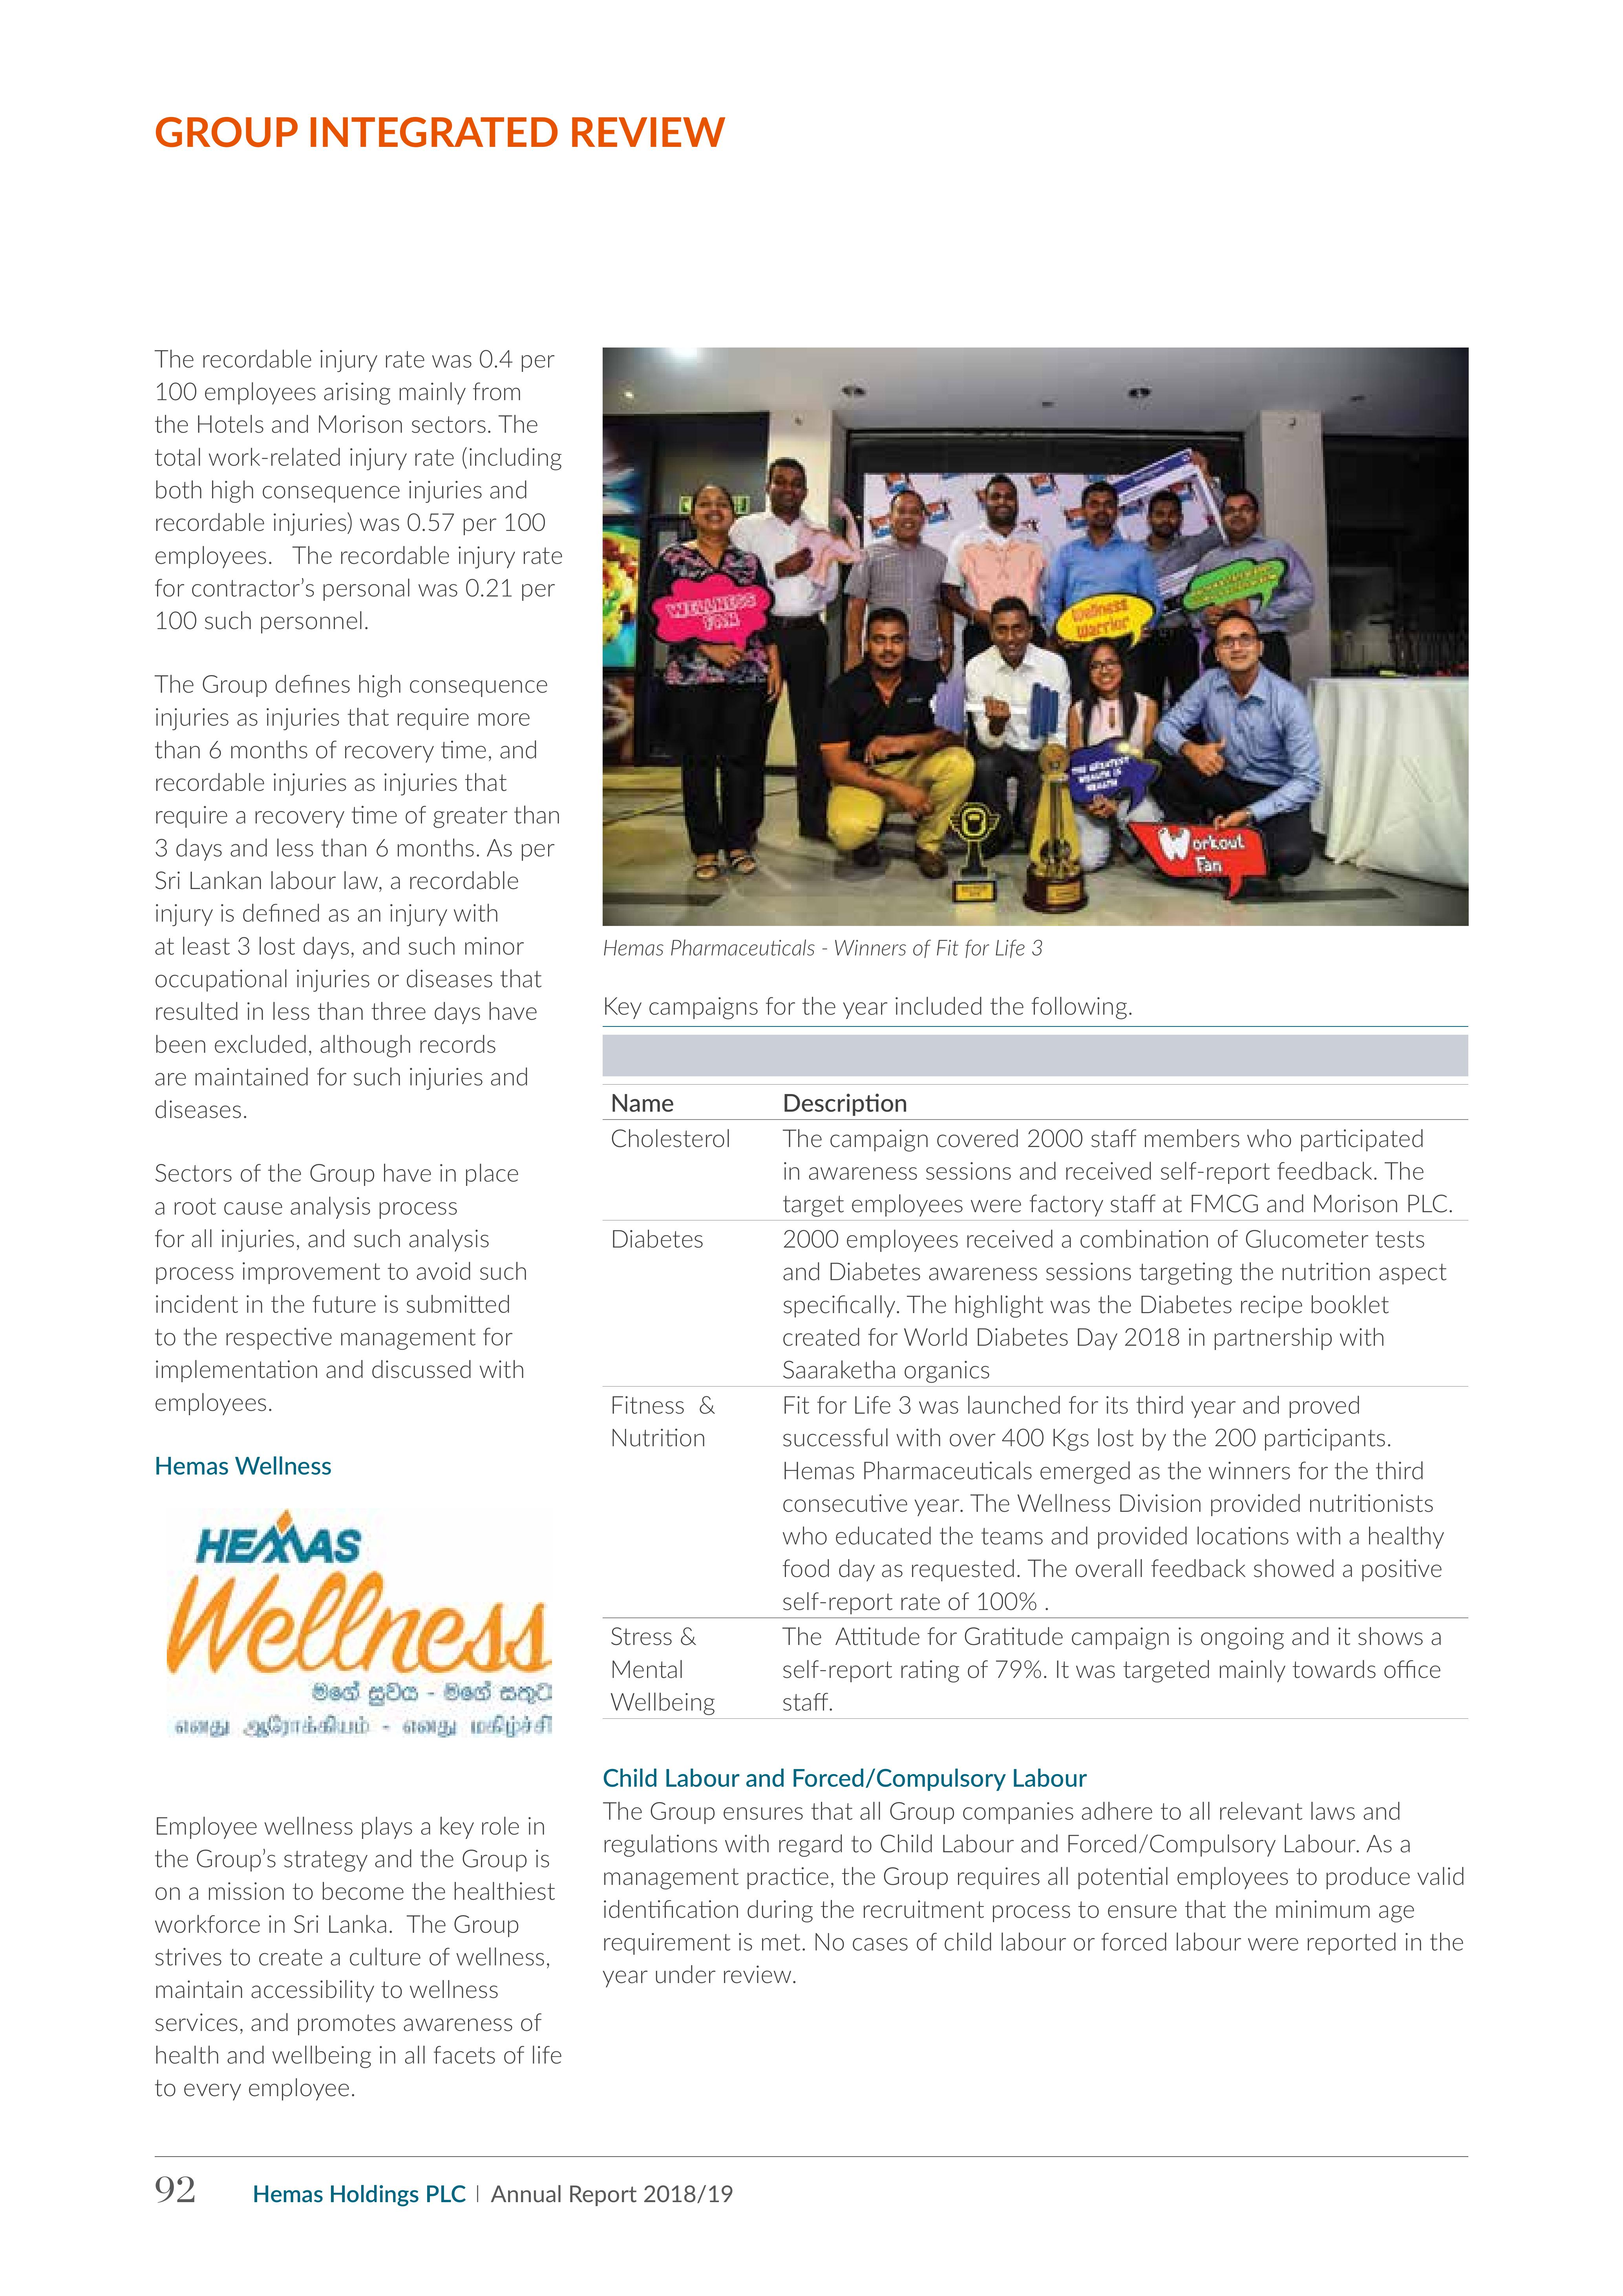table: (592, 1021, 1484, 1734)
